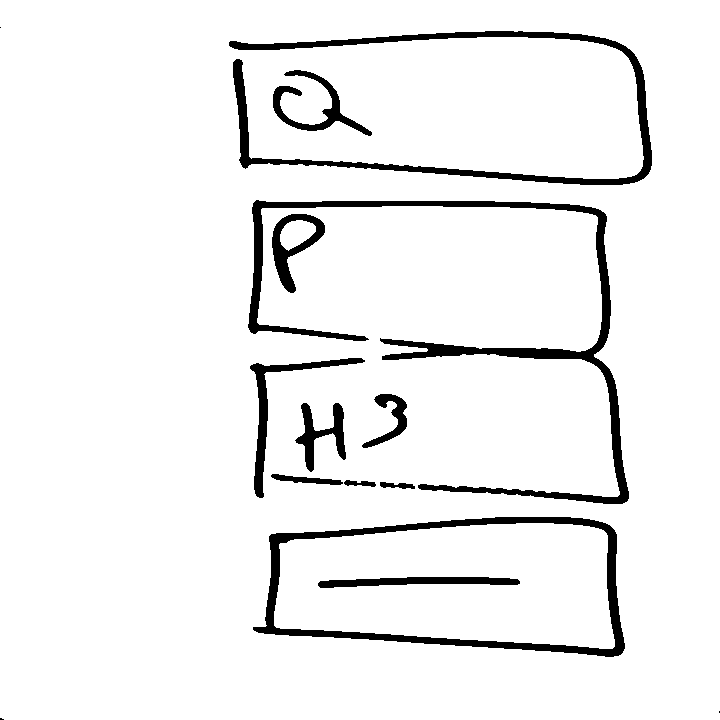button: (255, 513, 636, 662)
heading3: (244, 350, 636, 512)
paragraph: (244, 195, 618, 359)
search bar: (224, 26, 664, 193)
